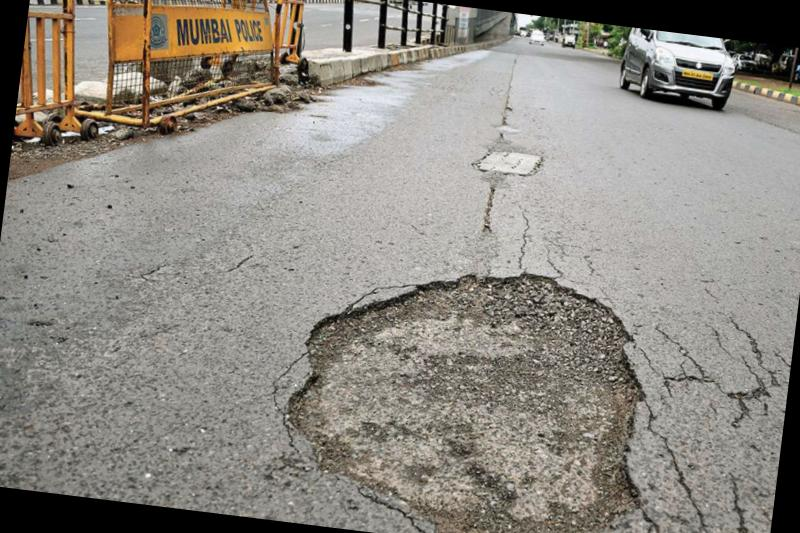pothole: (270, 242, 668, 533)
